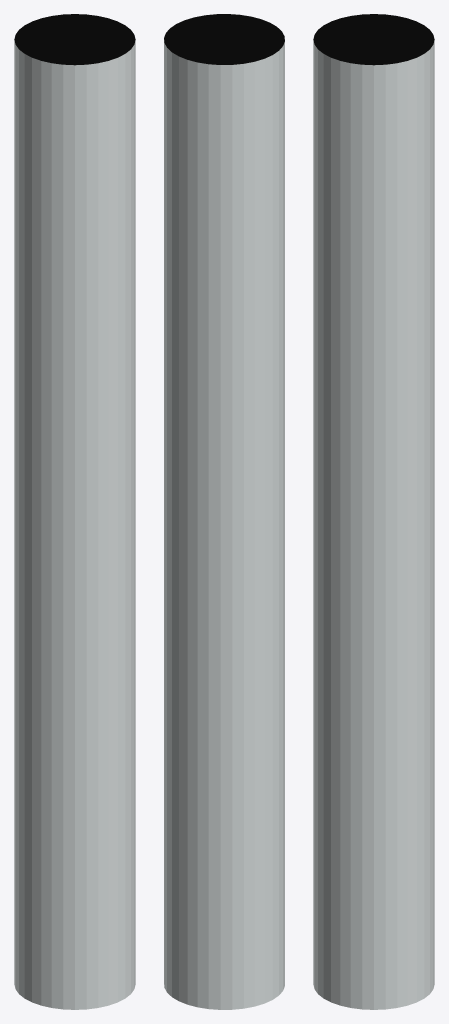
Rendered from LeverNeck1.1.obj.
3 views of the same model, side by side, from view 1: azimuth 90°, elevation 25°; view 2: azimuth 210°, elevation 25°; view 3: azimuth 270°, elevation 25° (orthographic).
Parts seen in each view (by area): view 1: LeverNeck_Cylinder.001; view 2: LeverNeck_Cylinder.001; view 3: LeverNeck_Cylinder.001.
Boxes of the visible parts, x1,y1,x2,y2 form: LeverNeck_Cylinder.001: (14,14,135,1009); LeverNeck_Cylinder.001: (164,14,284,1009); LeverNeck_Cylinder.001: (313,14,434,1009).
Size of the model in its own units: 0.2279 by 1.96 by 0.2279.
